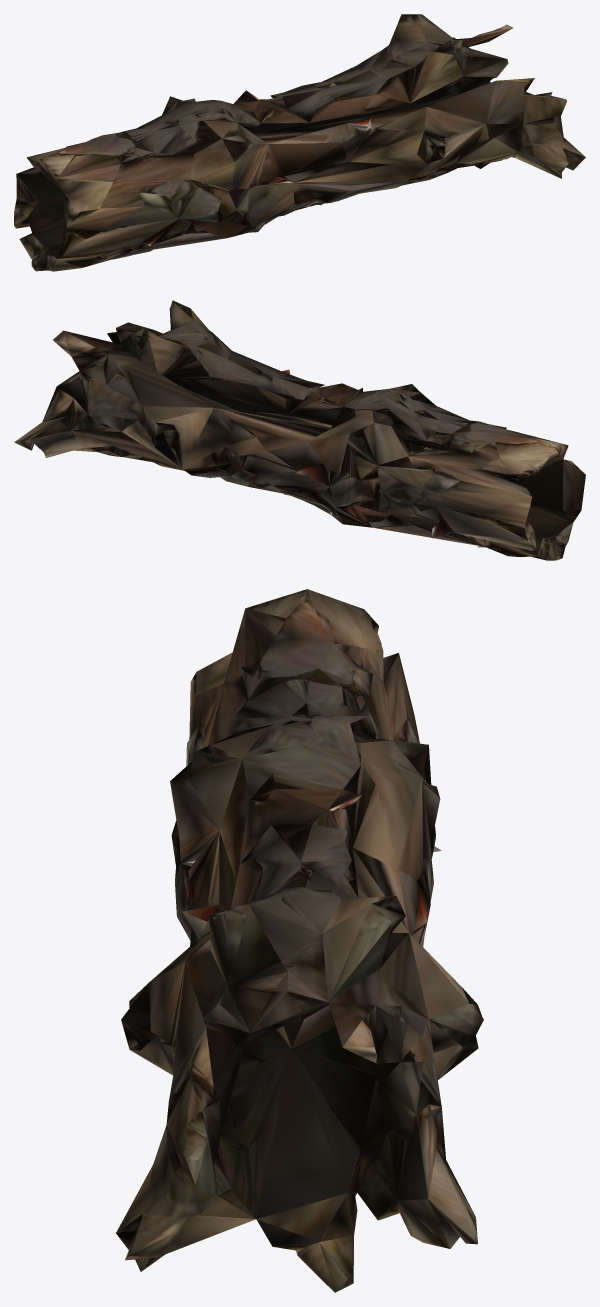
The model's file is baum-stamm-1.glb.
The picture shows the model from 3 angles, top to bottom: view 1: azimuth 30°, elevation 25°; view 2: azimuth 150°, elevation 25°; view 3: azimuth 270°, elevation 25°; orthographic projection. The views are drawn at different scales.
Parts seen in each view (by area): view 1: Mesh_0; view 2: Mesh_0; view 3: Mesh_0.
Part boxes in pixels (left/top/right/bottom): Mesh_0: left=14, top=14, right=585, bottom=271; Mesh_0: left=14, top=300, right=585, bottom=560; Mesh_0: left=116, top=589, right=483, bottom=1292.
Size of the model in its own units: 1.89 by 0.5473 by 0.5936.
1 material, 1 textured.
